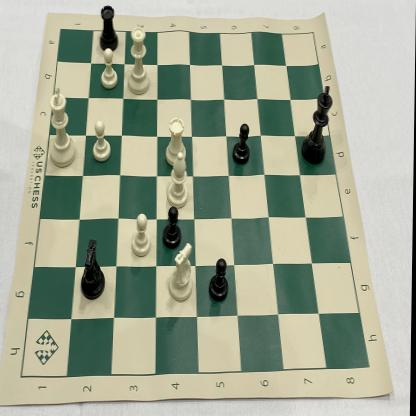black-king: (300, 83, 337, 167)
black-knight: (73, 235, 109, 304)
black-pawn: (207, 256, 232, 304), (161, 201, 185, 250), (230, 120, 253, 168)
black-rook: (97, 0, 121, 55)
white-bishop: (165, 150, 192, 212)
white-king: (45, 81, 80, 172)
white-knight: (167, 241, 200, 303)
white-pawn: (130, 209, 155, 262), (89, 116, 115, 165), (100, 48, 120, 92)
white-queen: (126, 22, 155, 98)
white-rook: (163, 112, 191, 170)
